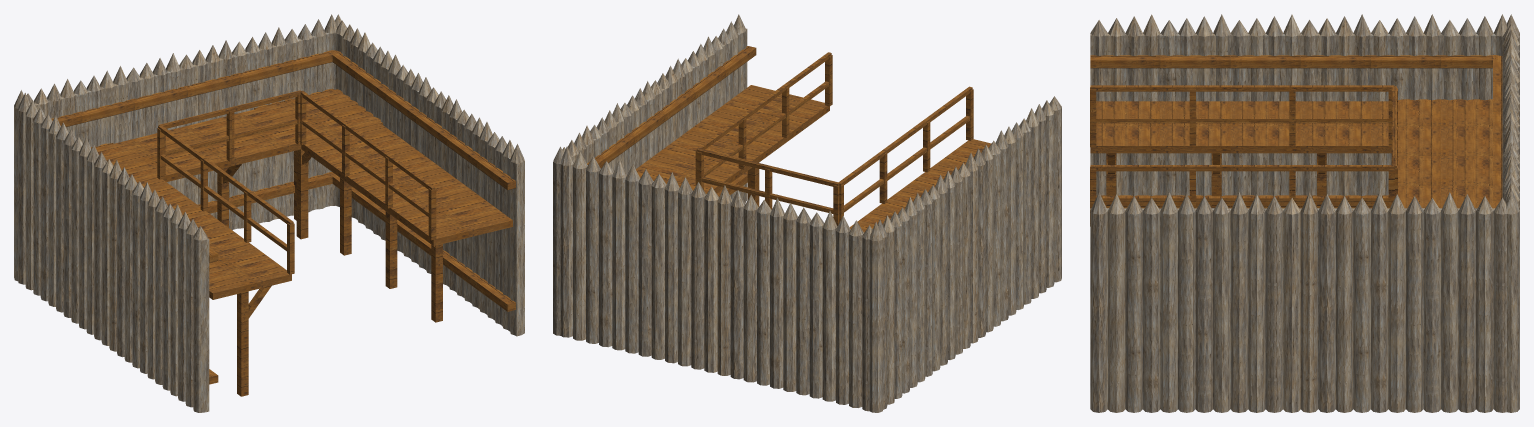
File: frontier-stockade-u.gltf
The picture shows the model from 3 angles, left to right: view 1: azimuth 30°, elevation 25°; view 2: azimuth 150°, elevation 25°; view 3: azimuth 270°, elevation 25°; orthographic projection. The views are drawn at different scales.
Visible parts, largest first — view 1: stockade-L0-log, walkway-L1-wood, structure-L0-wood, guards-L1-wood; view 2: stockade-L0-log, walkway-L1-wood, guards-L1-wood, structure-L0-wood; view 3: stockade-L0-log, walkway-L1-wood, guards-L1-wood, structure-L0-wood.
Boxes of the visible parts, x1=… form: stockade-L0-log: x1=14, y1=14, x2=524, y2=412; walkway-L1-wood: x1=91, y1=88, x2=512, y2=299; structure-L0-wood: x1=51, y1=50, x2=515, y2=396; guards-L1-wood: x1=157, y1=90, x2=436, y2=274; stockade-L0-log: x1=553, y1=14, x2=1061, y2=412; walkway-L1-wood: x1=636, y1=85, x2=991, y2=232; guards-L1-wood: x1=695, y1=52, x2=973, y2=225; structure-L0-wood: x1=587, y1=46, x2=759, y2=206; stockade-L0-log: x1=1090, y1=14, x2=1519, y2=412; walkway-L1-wood: x1=1090, y1=99, x2=1492, y2=208; guards-L1-wood: x1=1090, y1=85, x2=1397, y2=226; structure-L0-wood: x1=1090, y1=55, x2=1502, y2=208.
Bounding box in the file's own units: 6.25 × 3.42 × 6.13.
Materials: 2 (2 with a texture image).
